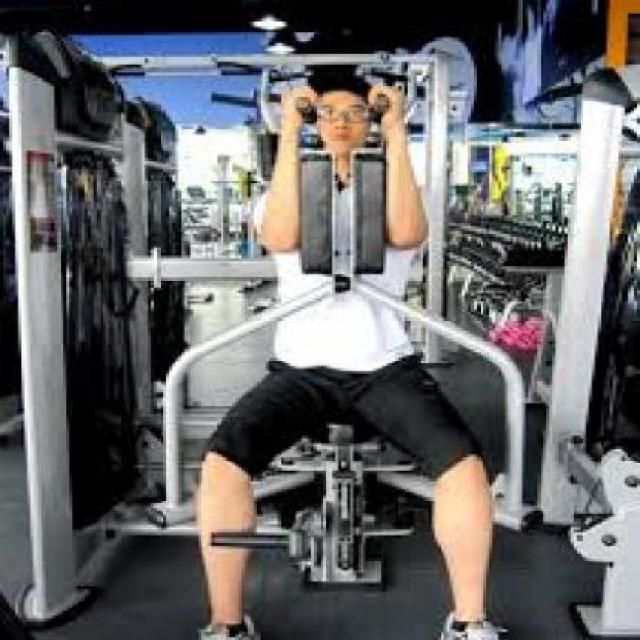chest fly machine: (0, 26, 535, 640)
